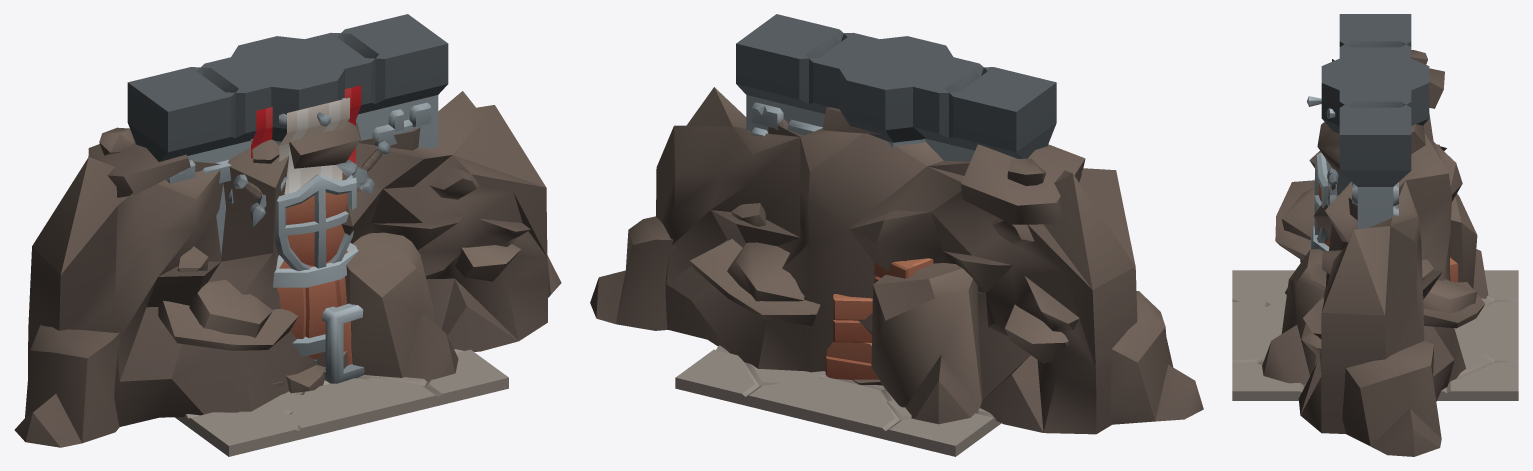
Rendered from stage.glb.
The picture shows the model from 3 angles, left to right: view 1: azimuth 30°, elevation 25°; view 2: azimuth 150°, elevation 25°; view 3: azimuth 270°, elevation 25°; orthographic projection. The views are drawn at different scales.
Visible parts, largest first — view 1: rubble_large, wall, wall_arched, pillar_decorated, floor_tile_large, barrel_large, floor_tile_large_rocks, crates_stacked, banner_red; view 2: rubble_large, wall, floor_tile_large, wall_arched, pillar_decorated, crates_stacked, floor_tile_large_rocks; view 3: rubble_large, floor_tile_large, wall, pillar_decorated, wall_arched, floor_tile_large_rocks.
Boxes of the visible parts, left/top/right/bottom form: rubble_large: left=14, top=91, right=561, bottom=447; wall: left=127, top=14, right=447, bottom=255; wall_arched: left=127, top=14, right=448, bottom=183; pillar_decorated: left=231, top=36, right=390, bottom=365; floor_tile_large: left=175, top=349, right=508, bottom=456; barrel_large: left=273, top=249, right=358, bottom=359; floor_tile_large_rocks: left=217, top=350, right=422, bottom=430; crates_stacked: left=322, top=303, right=364, bottom=383; banner_red: left=251, top=85, right=361, bottom=173; rubble_large: left=590, top=87, right=1203, bottom=434; wall: left=736, top=14, right=1055, bottom=161; floor_tile_large: left=675, top=345, right=1001, bottom=456; wall_arched: left=746, top=15, right=1056, bottom=161; pillar_decorated: left=839, top=36, right=952, bottom=148; crates_stacked: left=825, top=258, right=933, bottom=379; floor_tile_large_rocks: left=753, top=366, right=909, bottom=419; rubble_large: left=1262, top=50, right=1488, bottom=456; floor_tile_large: left=1232, top=270, right=1518, bottom=400; wall: left=1339, top=14, right=1411, bottom=229; pillar_decorated: left=1307, top=58, right=1429, bottom=243; wall_arched: left=1339, top=14, right=1410, bottom=222; floor_tile_large_rocks: left=1232, top=286, right=1494, bottom=371.
Size of the model in its own units: 8.13 by 4.4 by 4.
13 materials, 13 textured.
